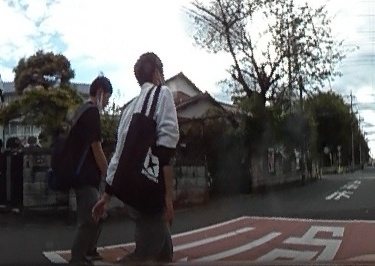person: (121, 55, 177, 256), (67, 73, 112, 266)
